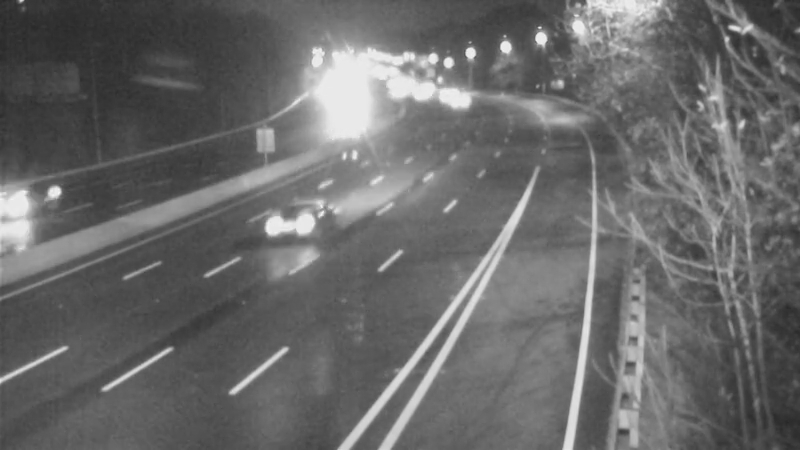vehicle: (268, 183, 348, 263), (1, 161, 67, 241)
